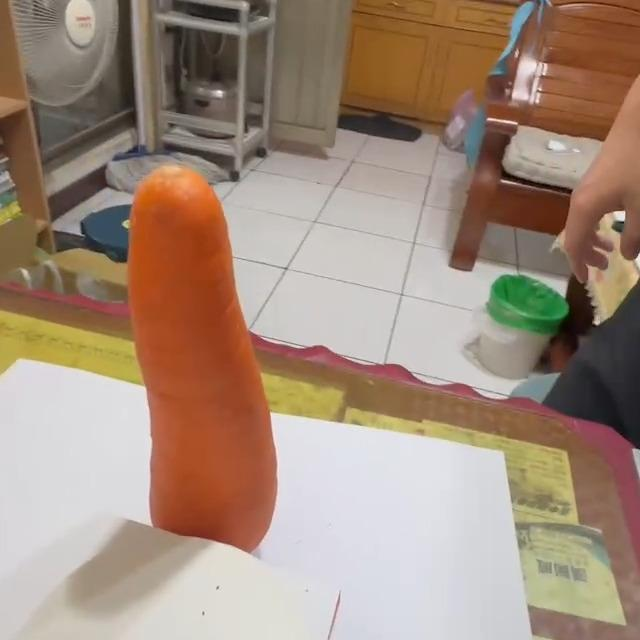carrot: (127, 166, 280, 553)
